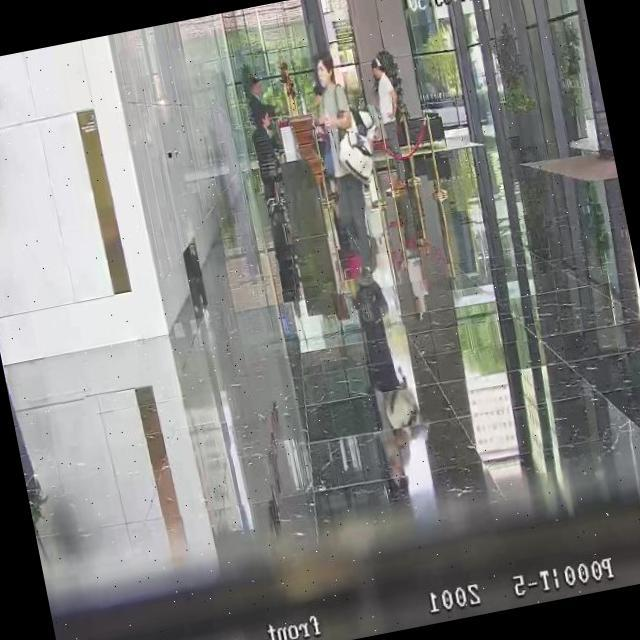person: (302, 49, 384, 280), (368, 55, 417, 194), (307, 85, 342, 202), (252, 106, 284, 179), (247, 74, 281, 130)
